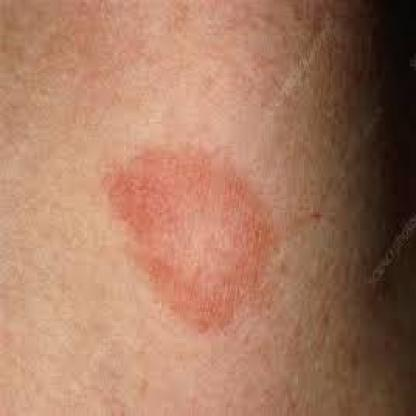Ringworm: (99, 133, 291, 337)
